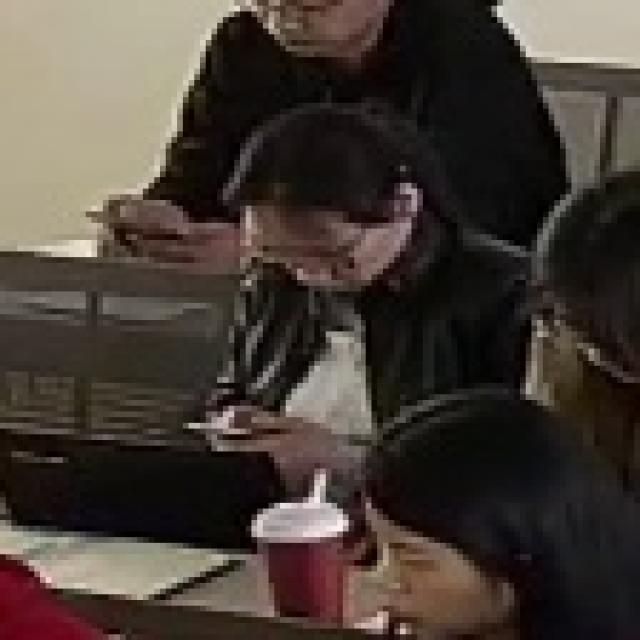phone: (185, 105, 550, 496), (143, 0, 576, 231)
